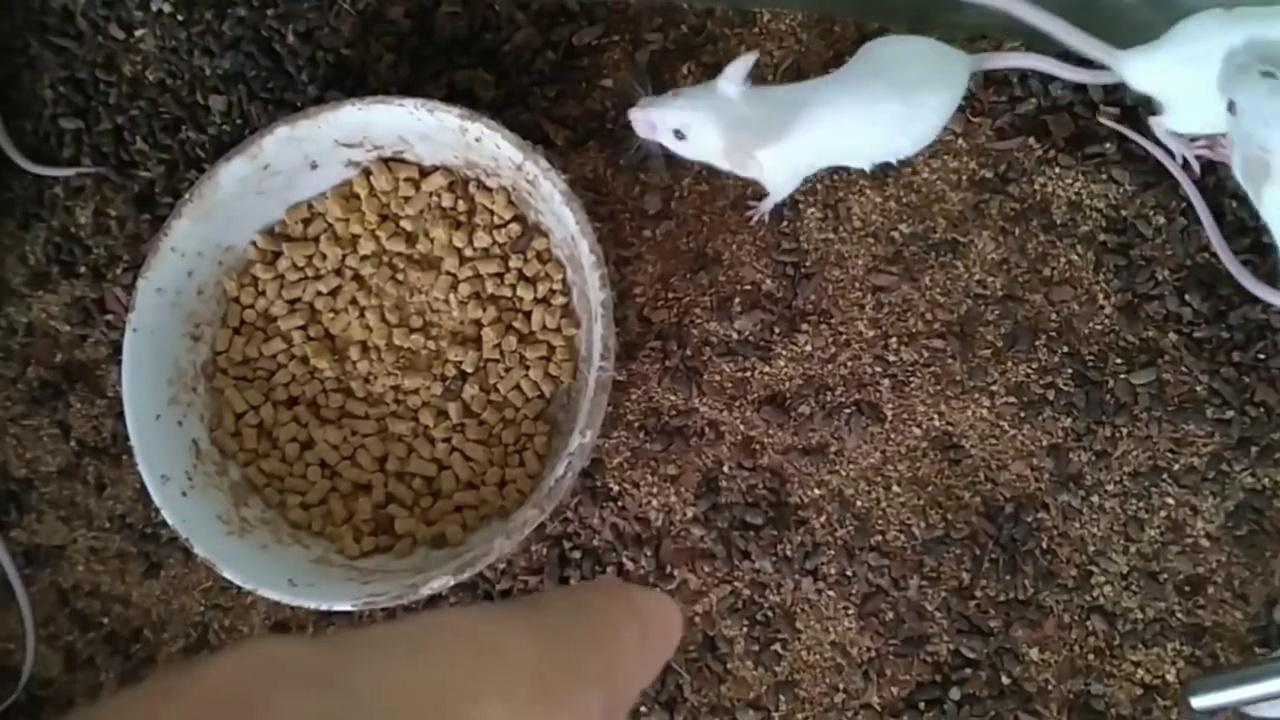rat: (627, 35, 1121, 226), (1218, 47, 1280, 259)
